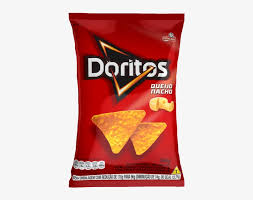Doritos: (68, 15, 189, 183)
